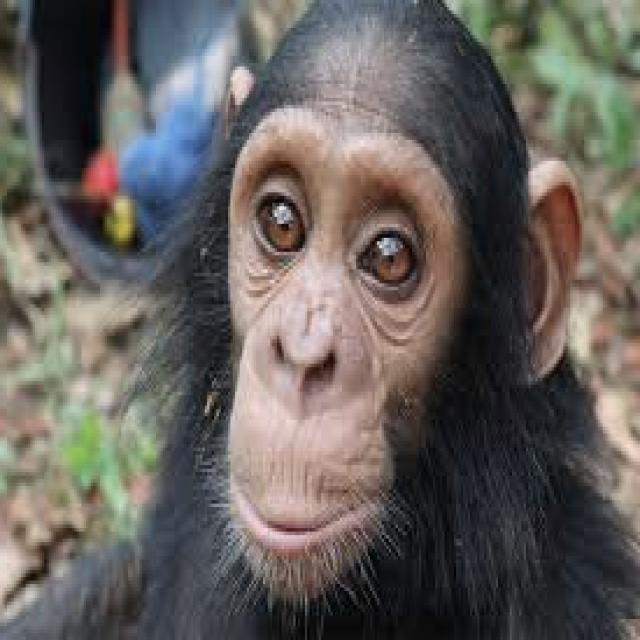chimpanzee: (2, 0, 640, 637)
